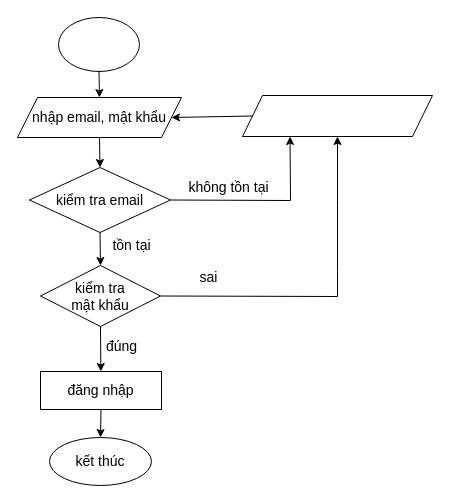
The diagram is 450 pixels wide and 503 high, and some of its shapes have lost their labels. Each missing label, with the centre of its shape:
bắt đầu: pixel 99 44
thông báo lỗi: pixel 337 115
